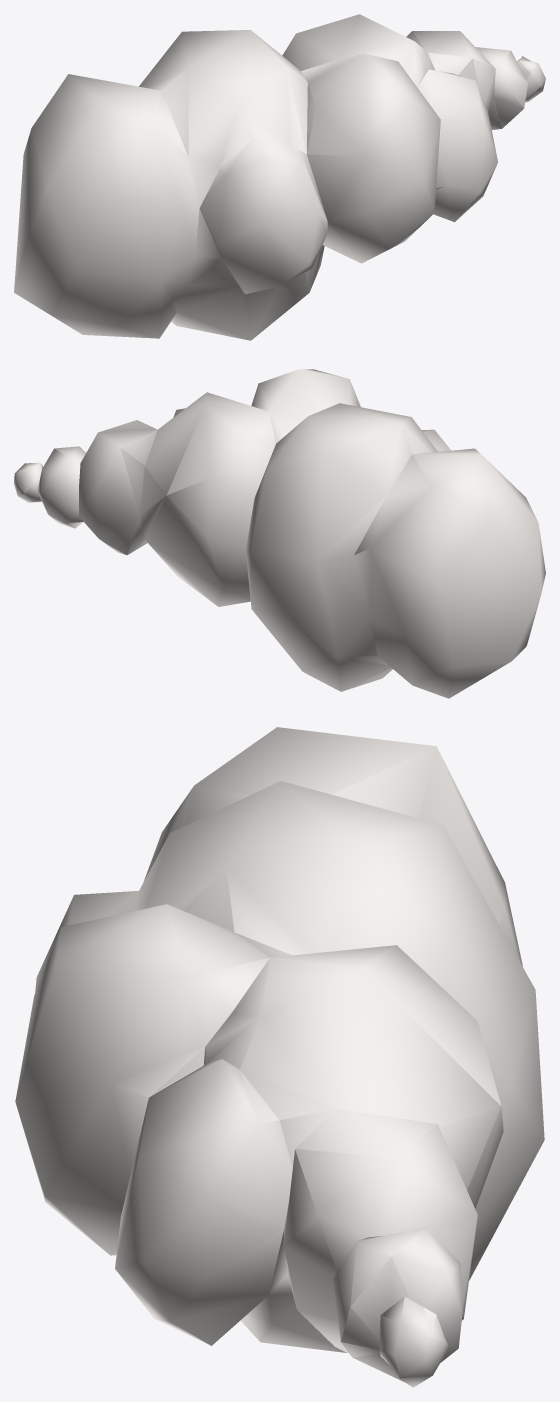
Rendered from cloud_type1.obj.
3 views of the same model, one above another, from view 1: azimuth 30°, elevation 25°; view 2: azimuth 150°, elevation 25°; view 3: azimuth 270°, elevation 25° (orthographic). The views are drawn at different scales.
Parts seen in each view (by area): view 1: 000_Cloud_3; view 2: 000_Cloud_3; view 3: 000_Cloud_3.
Part boxes in pixels (<box>): 000_Cloud_3: <box>14,14,545,340</box>; 000_Cloud_3: <box>14,369,545,698</box>; 000_Cloud_3: <box>15,727,544,1387</box>.
Size of the model in its own units: 171 by 84.09 by 79.26.
